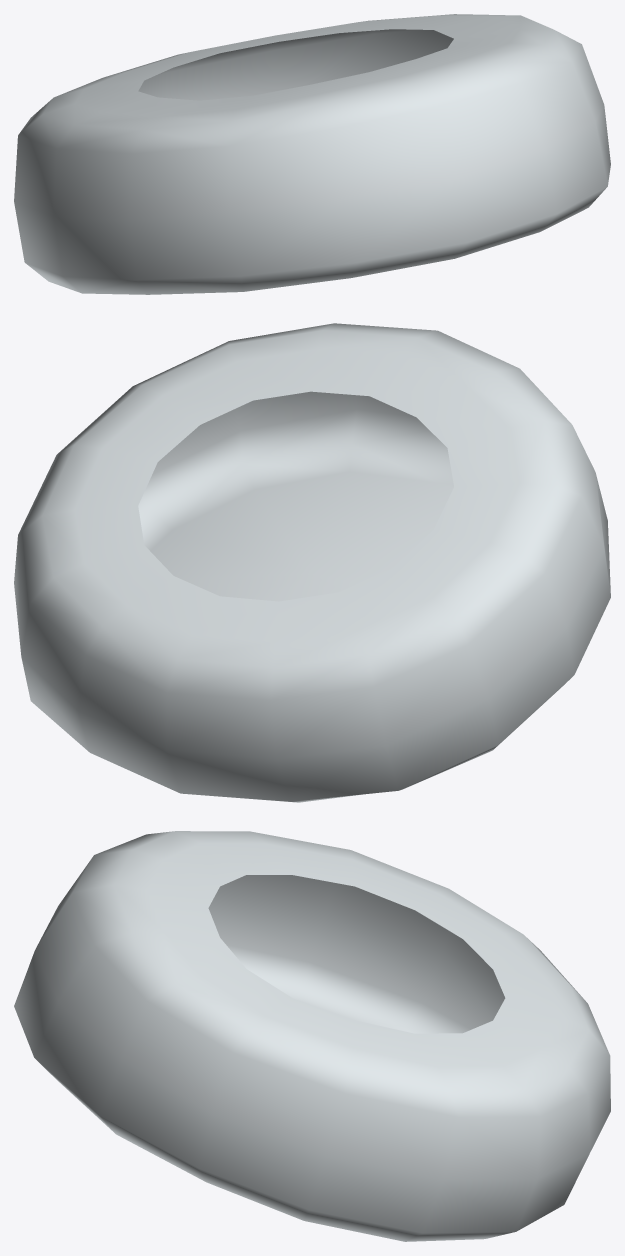
File: HairAcc_3.fbx
The picture shows the model from 3 angles, top to bottom: view 1: azimuth 30°, elevation 25°; view 2: azimuth 150°, elevation 25°; view 3: azimuth 270°, elevation 25°; orthographic projection.
Parts seen in each view (by area): view 1: HairAcc_3; view 2: HairAcc_3; view 3: HairAcc_3.
Boxes of the visible parts, box(x1,y1,x2,y2) form: HairAcc_3: box(14, 14, 610, 294); HairAcc_3: box(14, 323, 610, 802); HairAcc_3: box(14, 831, 610, 1241).
Bounding box in the file's own units: 65.67 × 36.04 × 66.64.
